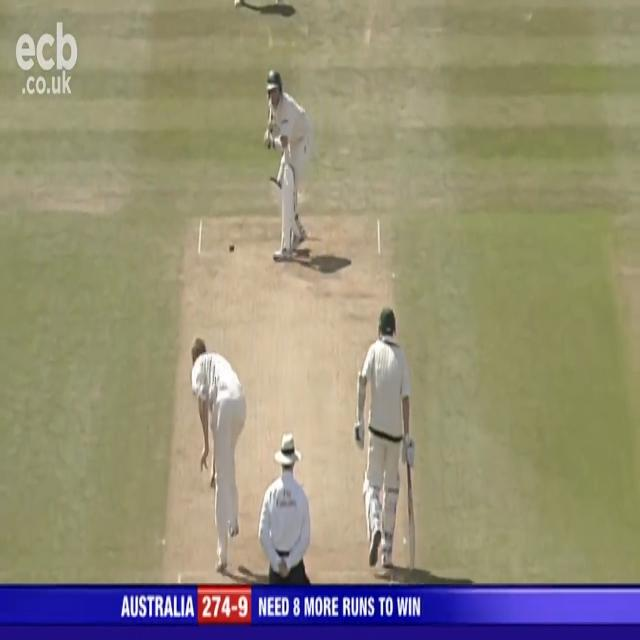ball: (228, 240, 236, 258)
